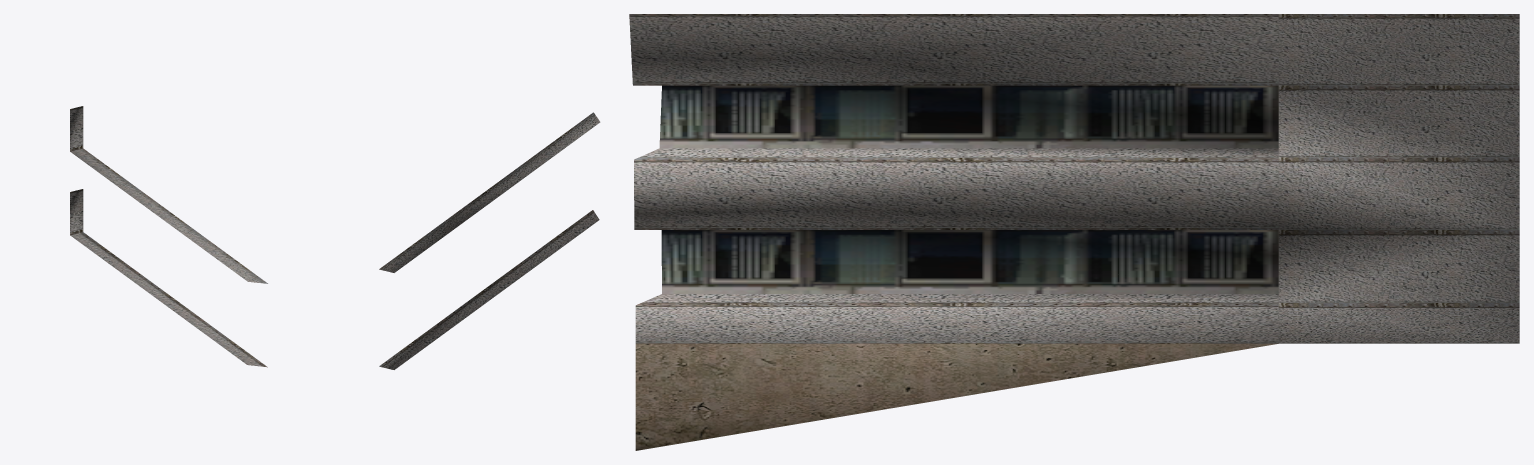
File: M11Z1_TownWall042.glb
The picture shows the model from 3 angles, left to right: view 1: azimuth 30°, elevation 25°; view 2: azimuth 150°, elevation 25°; view 3: azimuth 270°, elevation 25°; orthographic projection. The views are drawn at different scales.
Visible parts, largest first — view 1: M11Z1_TOWNWALL042; view 2: M11Z1_TOWNWALL042; view 3: M11Z1_TOWNWALL042.
Part boxes in pixels (x1,y1,x2,y2): M11Z1_TOWNWALL042: (70, 106, 267, 367); M11Z1_TOWNWALL042: (379, 112, 600, 369); M11Z1_TOWNWALL042: (629, 14, 1519, 450).
Bounding box in the file's own units: 0.666 × 12 × 22.16.
3 materials, 3 textured.
